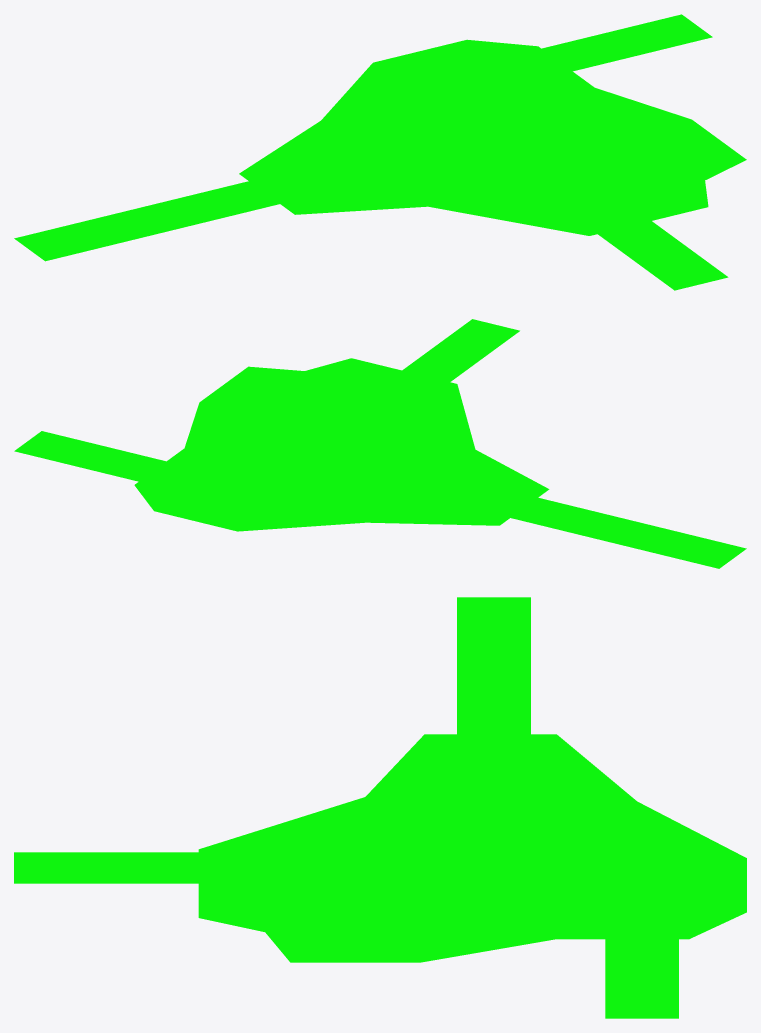
File: s05b_td2-floor.glb
The picture shows the model from 3 angles, top to bottom: view 1: azimuth 30°, elevation 25°; view 2: azimuth 150°, elevation 25°; view 3: azimuth 270°, elevation 25°; orthographic projection. The views are drawn at different scales.
Parts seen in each view (by area): view 1: collision_floor-colonly; view 2: collision_floor-colonly; view 3: collision_floor-colonly.
Part boxes in pixels (x1,y1,x2,y2): collision_floor-colonly: (14, 14, 746, 290); collision_floor-colonly: (14, 319, 746, 568); collision_floor-colonly: (14, 597, 746, 1018).
Size of the model in its own units: 81 by 0.1016 by 59.53.
